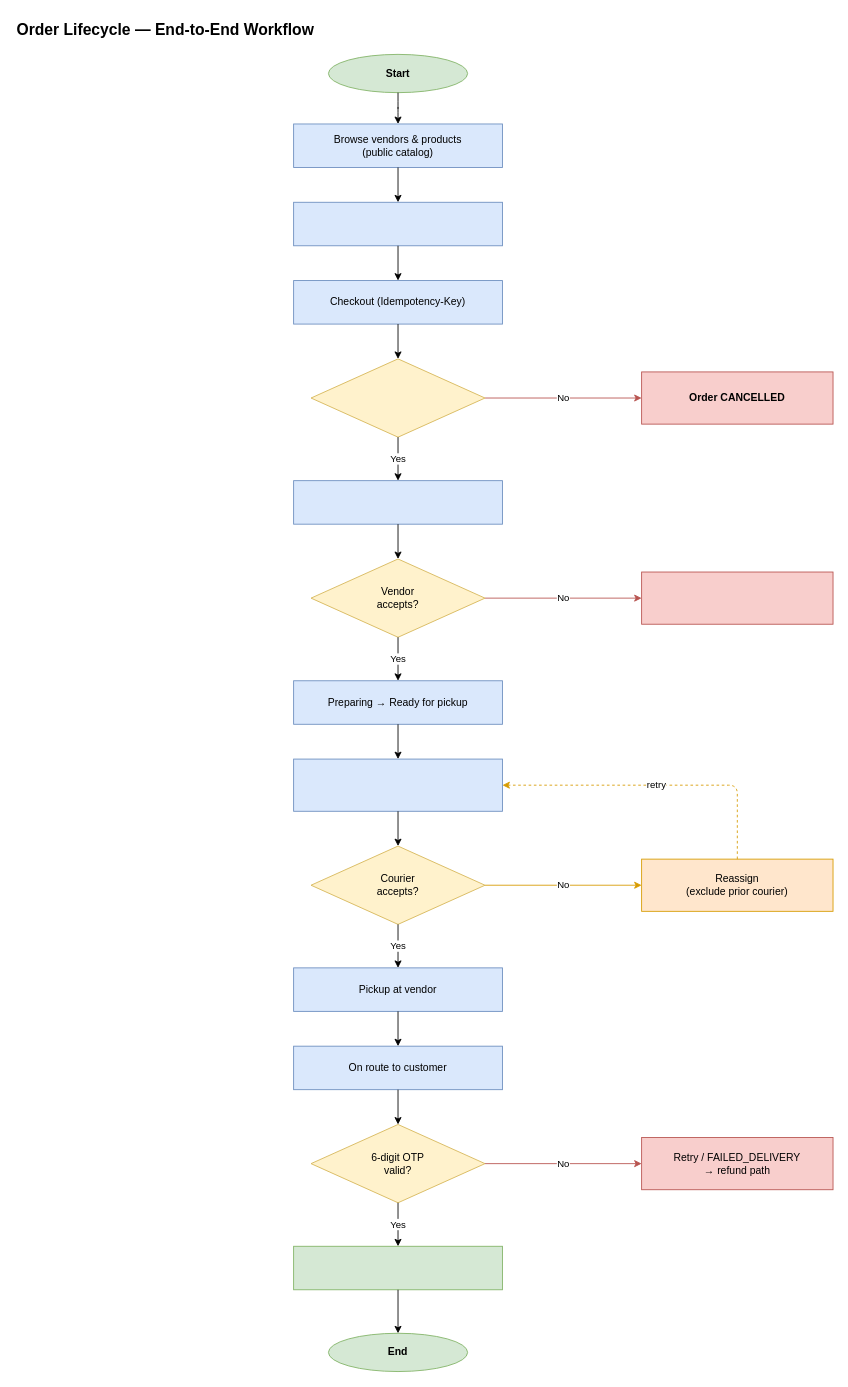
Some shapes in this 848 by 1387 pixel diagram are drawn without their labels. Each missing label, with the box of its shape:
Add items to cart: (293, 201, 502, 246)
DELIVERED: (293, 1245, 502, 1290)
Dispatch: first eligible courier in operating zone (APPROVED+online): (293, 758, 502, 811)
Payment confirmed?: (310, 358, 485, 437)
Rejected → REFUND: (641, 571, 833, 624)
Vendor notified: (293, 480, 502, 524)
